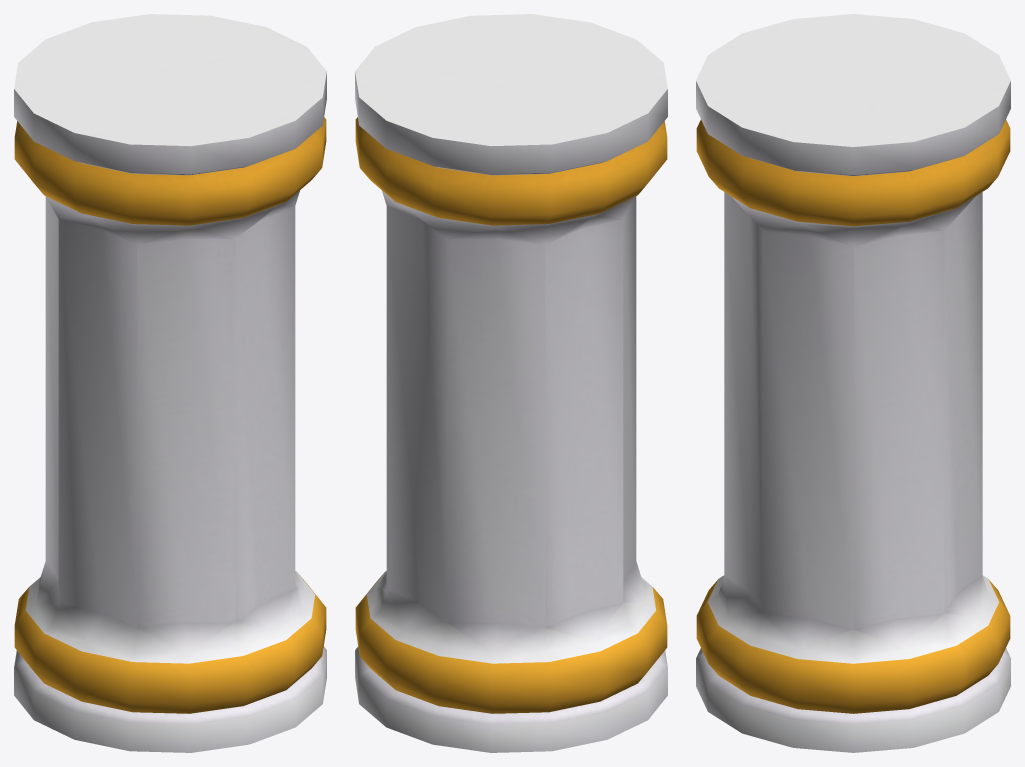
The model's file is pl_sutun.glb.
The picture shows the model from 3 angles, left to right: view 1: azimuth 30°, elevation 25°; view 2: azimuth 150°, elevation 25°; view 3: azimuth 270°, elevation 25°; orthographic projection.
Parts seen in each view (by area): view 1: pl_sutun; view 2: pl_sutun; view 3: pl_sutun.
Boxes of the visible parts, x1,y1,x2,y2 form: pl_sutun: (14,14,326,752); pl_sutun: (355,14,667,752); pl_sutun: (696,14,1010,752).
Size of the model in its own units: 1.46 by 3.09 by 1.46.
1 material, 1 textured.
